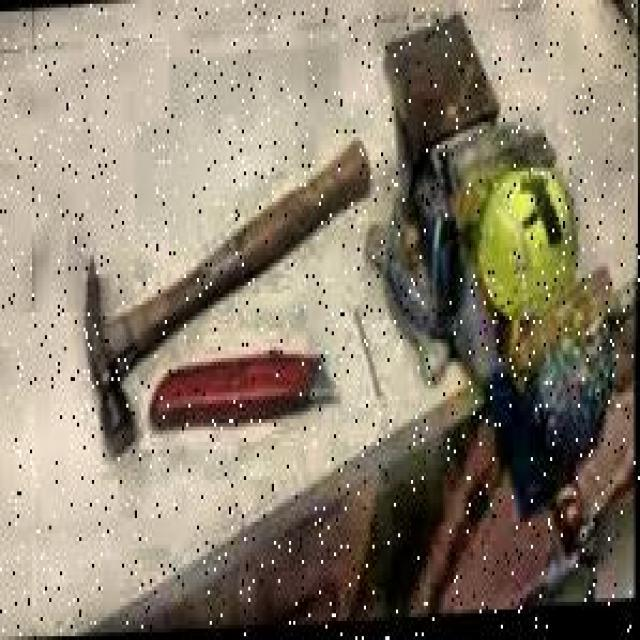tennis-ball: (477, 172, 578, 346)
